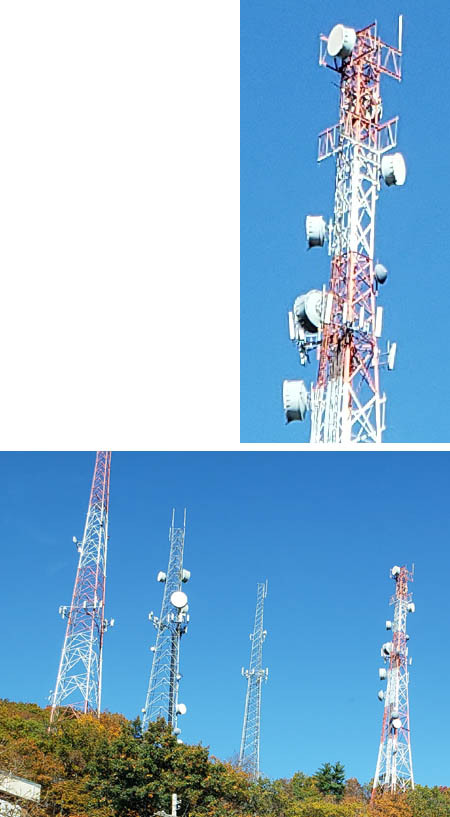ba: (290, 277, 344, 345), (320, 24, 363, 69), (274, 383, 317, 426), (380, 140, 412, 193), (301, 215, 334, 250), (169, 586, 197, 615)
